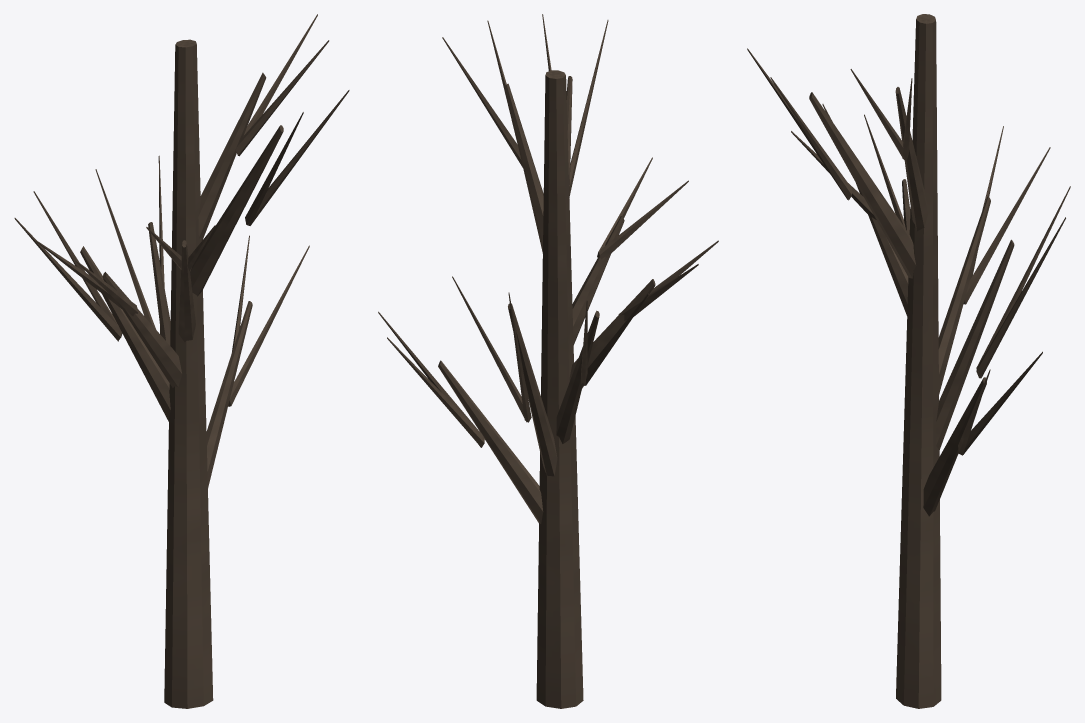
The model's file is tree_dead_02.fbx.
3 renders of one model, left to right at view 1: azimuth 30°, elevation 25°; view 2: azimuth 150°, elevation 25°; view 3: azimuth 270°, elevation 25°, orthographic. The views are drawn at different scales.
Parts seen in each view (by area): view 1: tree_dead_02; view 2: tree_dead_02; view 3: tree_dead_02.
Boxes of the visible parts, left/top/right/bottom form: tree_dead_02: left=14, top=14, right=349, bottom=708; tree_dead_02: left=378, top=14, right=718, bottom=708; tree_dead_02: left=747, top=14, right=1070, bottom=708.
Size of the model in its own units: 507 by 1050 by 450.
Materials: 1 (1 with a texture image).
